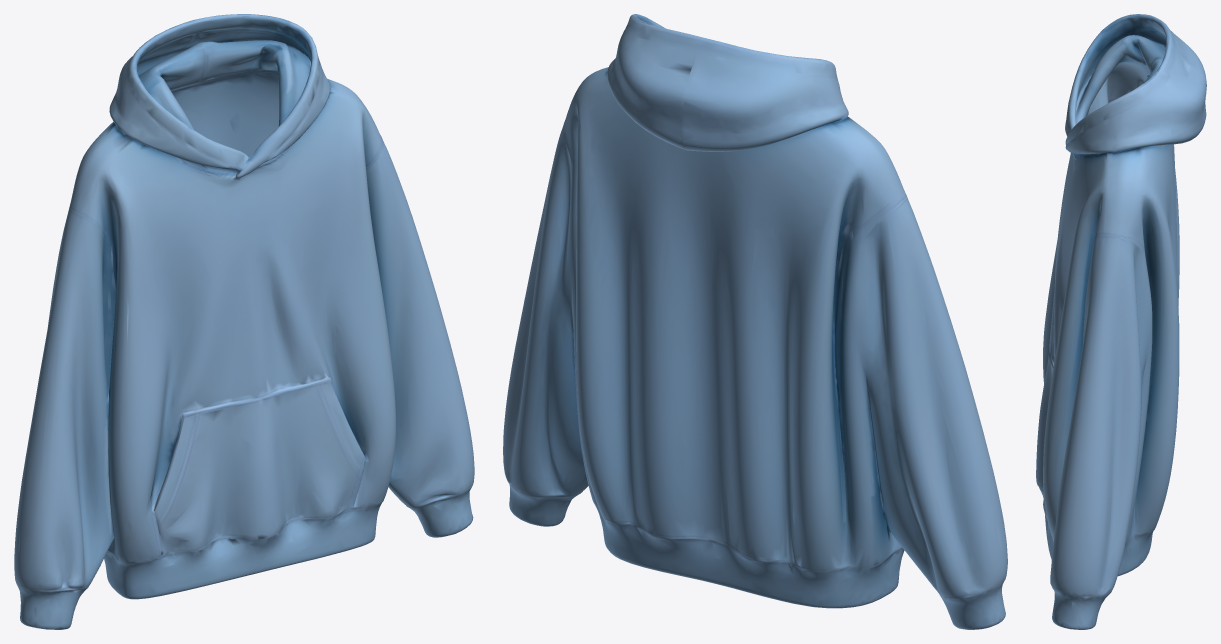
File: hoodie 002.glb
3 renders of one model, left to right at view 1: azimuth 30°, elevation 25°; view 2: azimuth 150°, elevation 25°; view 3: azimuth 270°, elevation 25°, orthographic. The views are drawn at different scales.
Parts seen in each view (by area): view 1: node_0; view 2: node_0; view 3: node_0.
Boxes of the visible parts, bbox=[...] form: node_0: bbox=[14, 14, 474, 629]; node_0: bbox=[503, 14, 1007, 629]; node_0: bbox=[1036, 14, 1206, 629].
Bounding box in the file's own units: 0.8198 × 0.9086 × 0.2836.
Materials: 1 (1 with a texture image).
